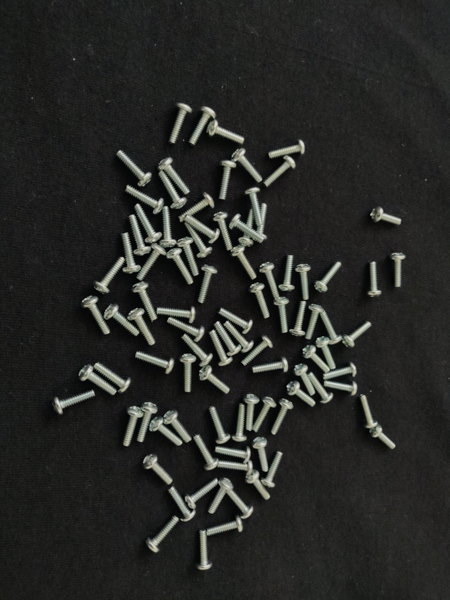shortscrew: (117, 150, 152, 188), (145, 516, 179, 554), (81, 295, 112, 336), (229, 148, 264, 184), (158, 157, 191, 195), (94, 256, 126, 295), (135, 243, 166, 283), (103, 303, 140, 336), (189, 104, 218, 146), (94, 362, 132, 394), (78, 365, 117, 396), (126, 185, 166, 215), (159, 170, 188, 211), (184, 213, 221, 244), (52, 389, 96, 415), (134, 204, 162, 244), (148, 416, 184, 447), (263, 155, 297, 187), (178, 193, 214, 223), (131, 282, 158, 322), (125, 216, 152, 256), (163, 408, 193, 444), (184, 479, 220, 509), (127, 309, 156, 346), (229, 245, 258, 281), (169, 487, 197, 524), (242, 335, 274, 367), (227, 214, 263, 242), (214, 321, 242, 357), (121, 406, 145, 448), (167, 248, 194, 285), (141, 454, 173, 485), (182, 335, 212, 368), (134, 351, 175, 375), (167, 318, 206, 343), (193, 434, 219, 471), (251, 395, 277, 432), (225, 321, 255, 353), (176, 237, 200, 277), (314, 261, 343, 294), (218, 308, 253, 335), (136, 402, 159, 443), (342, 319, 373, 349), (209, 477, 234, 514), (307, 372, 335, 405), (206, 121, 246, 144), (120, 232, 141, 275), (170, 103, 192, 144), (199, 366, 231, 394), (210, 330, 234, 367), (260, 451, 284, 488), (208, 406, 231, 444), (197, 264, 218, 304), (272, 398, 294, 436), (213, 212, 234, 251), (259, 261, 281, 298), (244, 470, 270, 501), (293, 363, 317, 396), (218, 159, 236, 202), (207, 516, 243, 537), (287, 381, 316, 407), (321, 312, 342, 347), (268, 140, 306, 159), (288, 302, 308, 338), (316, 336, 337, 370), (160, 207, 177, 249), (196, 529, 213, 571), (157, 306, 196, 324), (228, 492, 254, 519), (322, 362, 358, 381), (242, 394, 260, 432), (251, 437, 270, 473), (245, 187, 262, 227), (370, 425, 397, 450), (370, 205, 402, 226), (252, 357, 289, 375), (295, 263, 312, 302), (179, 354, 196, 393), (360, 395, 380, 428), (238, 209, 255, 247), (305, 304, 323, 339), (279, 256, 296, 292), (325, 378, 358, 396), (391, 252, 406, 289), (253, 203, 267, 242), (368, 261, 383, 297), (234, 404, 248, 442)
